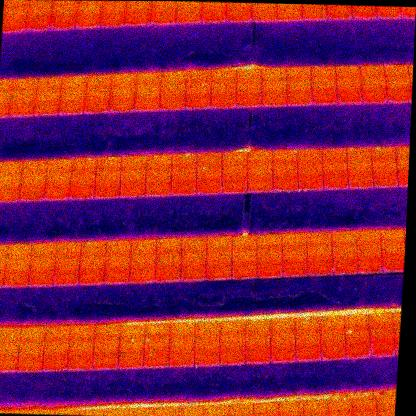Hotspot: (143, 351, 169, 368), (343, 327, 371, 342), (382, 63, 410, 78), (244, 319, 271, 334), (271, 149, 298, 164), (369, 313, 394, 329), (327, 397, 352, 413), (307, 245, 332, 261), (172, 151, 197, 167), (272, 176, 298, 191), (310, 65, 336, 80), (118, 337, 144, 352), (81, 241, 106, 256), (156, 237, 181, 252), (120, 323, 146, 337), (294, 316, 320, 330), (56, 242, 82, 256), (196, 166, 222, 180), (146, 154, 172, 168), (12, 78, 38, 92), (143, 337, 169, 351), (270, 332, 296, 346), (170, 322, 195, 336), (298, 176, 323, 190), (346, 146, 371, 160), (95, 157, 121, 170), (370, 146, 396, 159), (285, 66, 311, 79), (72, 156, 97, 169), (185, 82, 210, 95), (186, 70, 211, 82)
Normal: (180, 264, 206, 282), (17, 354, 44, 371), (319, 328, 345, 345), (79, 269, 105, 286), (104, 268, 130, 285), (256, 262, 282, 279), (185, 94, 211, 111), (200, 6, 226, 23), (42, 355, 68, 372), (194, 350, 220, 367), (219, 348, 245, 365), (270, 345, 296, 362), (169, 335, 195, 352), (281, 261, 308, 277), (331, 259, 358, 275), (379, 228, 406, 244), (117, 352, 144, 368), (344, 342, 371, 358), (369, 342, 396, 358), (193, 335, 220, 351), (357, 257, 382, 274), (300, 4, 328, 19), (54, 270, 80, 286), (155, 266, 181, 282), (206, 264, 232, 280), (231, 263, 257, 279), (306, 260, 332, 276), (355, 229, 381, 245), (119, 182, 145, 198), (222, 178, 248, 194), (247, 177, 273, 193), (45, 171, 71, 187), (21, 159, 47, 175), (386, 87, 412, 103), (168, 351, 194, 367), (381, 256, 404, 274), (368, 328, 395, 343), (129, 268, 156, 283), (29, 258, 56, 273), (330, 231, 357, 246), (43, 186, 70, 201), (322, 175, 349, 190), (246, 163, 273, 178), (134, 98, 161, 113), (310, 90, 337, 105), (325, 5, 352, 20), (302, 399, 327, 415), (351, 397, 376, 413), (32, 242, 57, 258), (131, 238, 156, 254), (145, 181, 170, 197), (176, 7, 201, 23), (3, 1, 28, 17), (245, 347, 270, 363), (245, 333, 270, 349), (336, 90, 364, 104), (333, 66, 361, 80), (250, 7, 278, 21), (69, 325, 95, 340), (3, 272, 29, 287), (54, 256, 80, 271), (256, 248, 282, 263), (181, 236, 207, 251), (256, 234, 282, 249), (69, 184, 95, 199), (171, 179, 197, 194), (322, 160, 348, 175), (121, 155, 147, 170), (221, 151, 247, 166), (235, 94, 261, 109), (384, 75, 410, 90), (49, 14, 75, 29), (75, 13, 101, 28), (150, 8, 176, 23), (51, 0, 77, 15), (68, 340, 94, 355), (295, 344, 321, 359), (294, 331, 321, 345), (19, 174, 46, 188), (8, 103, 35, 117), (58, 100, 85, 114), (159, 97, 186, 111), (260, 92, 287, 106), (235, 80, 262, 94), (260, 66, 287, 80), (24, 16, 51, 30), (275, 7, 302, 21), (220, 319, 245, 334), (278, 401, 303, 416), (7, 243, 32, 258), (380, 243, 405, 258), (94, 183, 119, 198), (222, 164, 247, 179), (297, 162, 322, 177), (110, 98, 135, 113), (62, 74, 87, 89), (125, 11, 150, 26), (68, 355, 93, 370), (93, 353, 118, 368), (43, 340, 68, 355), (93, 338, 118, 353), (220, 333, 245, 348), (95, 324, 121, 338), (145, 322, 171, 336), (195, 322, 221, 336), (5, 258, 31, 272), (104, 254, 130, 268), (155, 252, 181, 266), (206, 250, 232, 264), (231, 249, 257, 263), (281, 247, 307, 261), (105, 240, 131, 254), (332, 246, 358, 260), (356, 244, 382, 258), (206, 236, 232, 250), (281, 234, 307, 248), (306, 232, 332, 246), (196, 179, 222, 193), (70, 169, 96, 183), (95, 169, 121, 183), (272, 163, 298, 177), (46, 158, 72, 172), (371, 159, 397, 173), (60, 87, 86, 101), (286, 92, 312, 106), (135, 84, 161, 98), (160, 83, 186, 97), (261, 79, 287, 93), (110, 73, 136, 87), (335, 78, 361, 92), (100, 13, 126, 27), (26, 2, 52, 16), (320, 344, 346, 358), (0, 160, 22, 176), (269, 319, 296, 332), (10, 90, 37, 103), (75, 1, 102, 14), (45, 326, 70, 340), (28, 272, 53, 286), (80, 255, 105, 269), (130, 253, 155, 267), (181, 250, 206, 264), (348, 175, 373, 189), (372, 173, 397, 187), (347, 161, 372, 175), (197, 152, 222, 166), (297, 148, 322, 162), (34, 102, 59, 116), (210, 95, 235, 109), (362, 90, 387, 104), (226, 8, 251, 22), (19, 341, 44, 355), (229, 402, 254, 416), (349, 5, 378, 17), (232, 236, 258, 249), (171, 167, 197, 180), (321, 148, 347, 161), (84, 99, 110, 112), (110, 86, 136, 99), (210, 82, 236, 95), (161, 70, 187, 83), (211, 69, 237, 82), (359, 65, 385, 78), (2, 16, 26, 30), (374, 6, 402, 18), (0, 327, 21, 343), (21, 327, 45, 341), (253, 403, 278, 416), (344, 314, 369, 327), (247, 151, 272, 164), (37, 77, 62, 90), (286, 79, 311, 92), (360, 77, 385, 90), (318, 317, 345, 329), (34, 90, 61, 102), (235, 69, 262, 81), (85, 87, 111, 99), (87, 74, 111, 87), (311, 79, 337, 91), (0, 357, 18, 374), (19, 189, 44, 201), (120, 170, 145, 182), (146, 169, 171, 181), (136, 72, 161, 84), (0, 341, 20, 356), (204, 404, 228, 416), (101, 1, 126, 12), (0, 188, 19, 202), (0, 176, 22, 188)
